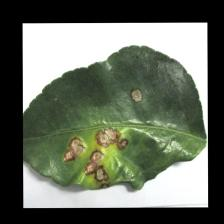greening: (59, 86, 148, 190)
